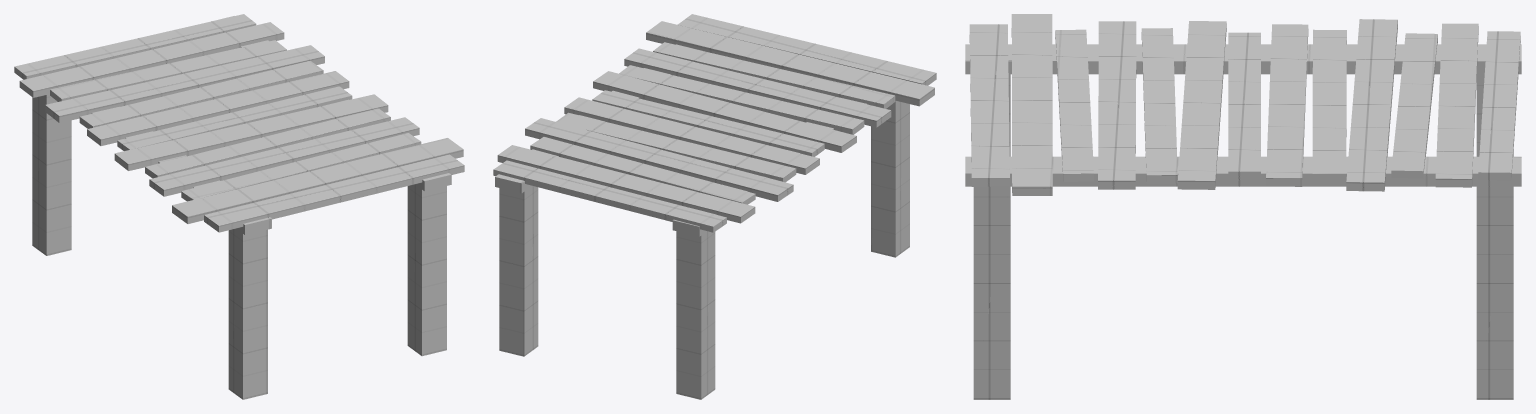
Rendered from BridgeWoodenRamp.fbx.
The picture shows the model from 3 angles, left to right: view 1: azimuth 30°, elevation 25°; view 2: azimuth 150°, elevation 25°; view 3: azimuth 270°, elevation 25°; orthographic projection. The views are drawn at different scales.
Parts seen in each view (by area): view 1: BridgeWoodenRamp; view 2: BridgeWoodenRamp; view 3: BridgeWoodenRamp.
Part boxes in pixels (x1,y1,x2,y2): BridgeWoodenRamp: (14, 14, 464, 399); BridgeWoodenRamp: (493, 14, 936, 399); BridgeWoodenRamp: (965, 14, 1521, 399).
Size of the model in its own units: 10.99 by 6.93 by 14.96.
